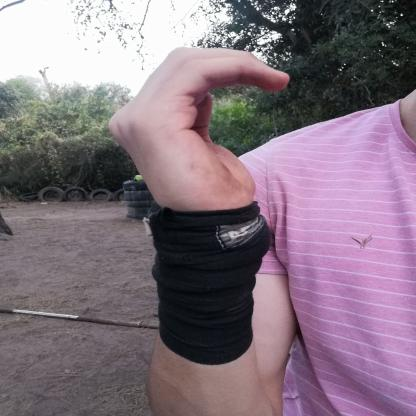HAA: (89, 33, 320, 231)
